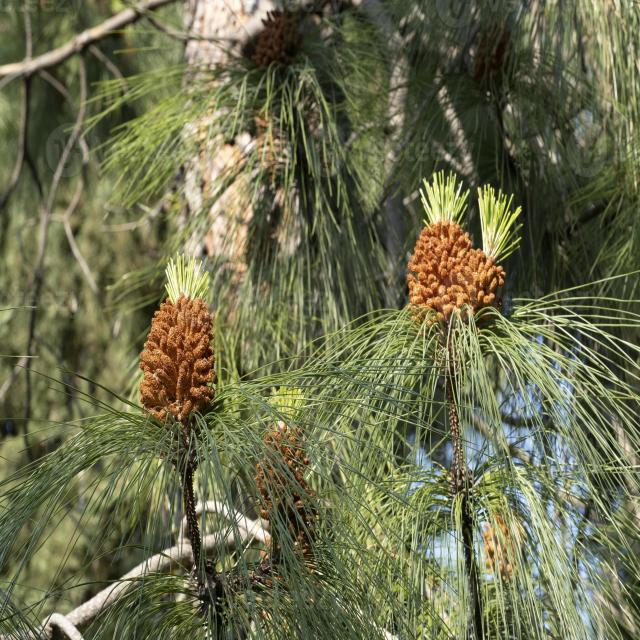Pine: (70, 263, 640, 640), (70, 0, 456, 430), (369, 126, 606, 517), (108, 206, 269, 473)
